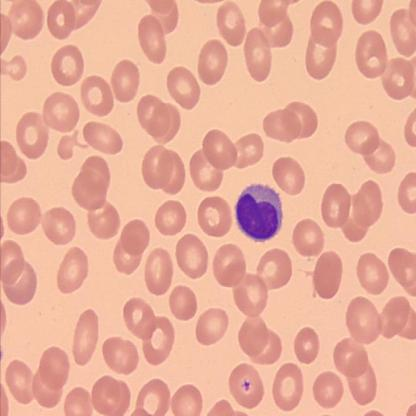Lymphocyte: (234, 183, 285, 242)
